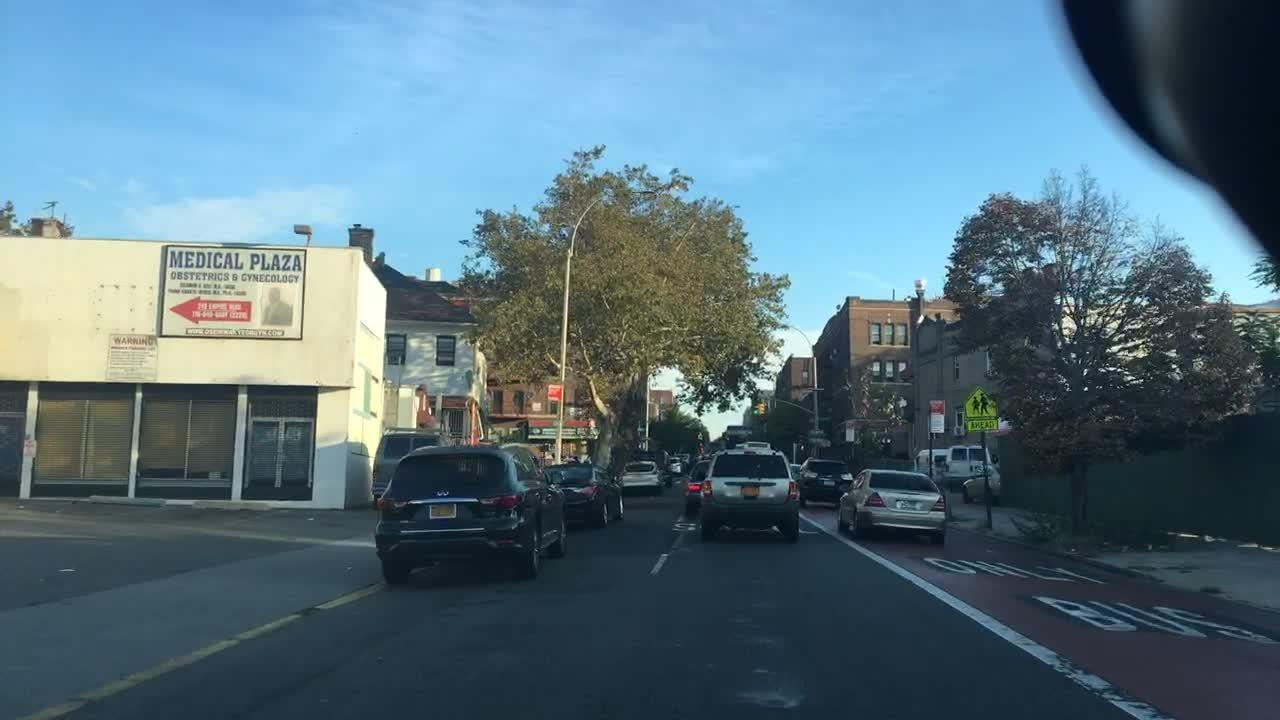Infiniti: (434, 486, 453, 500)
